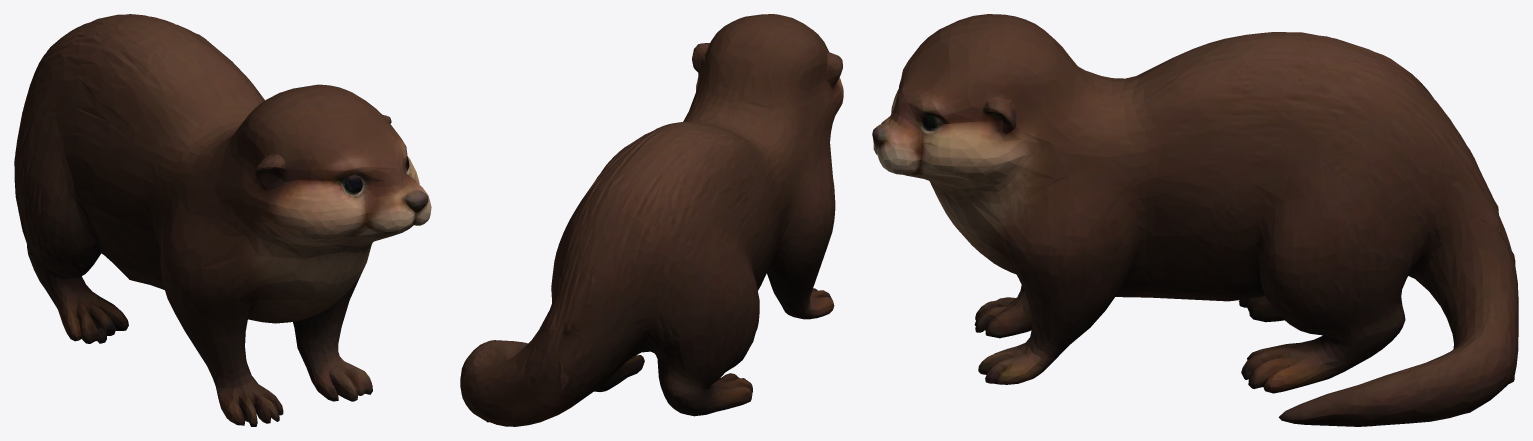
File: river_otter.glb
3 views of the same model, side by side, from view 1: azimuth 30°, elevation 25°; view 2: azimuth 150°, elevation 25°; view 3: azimuth 270°, elevation 25° (orthographic). The views are drawn at different scales.
Visible parts, largest first — view 1: geometry_0; view 2: geometry_0; view 3: geometry_0.
Part boxes in pixels (x1,y1,x2,y2): geometry_0: [14, 14, 431, 426]; geometry_0: [460, 14, 843, 426]; geometry_0: [872, 14, 1518, 426].
Bounding box in the file's own units: 0.5423 × 0.5752 × 0.9998.
Materials: 1 (1 with a texture image).
